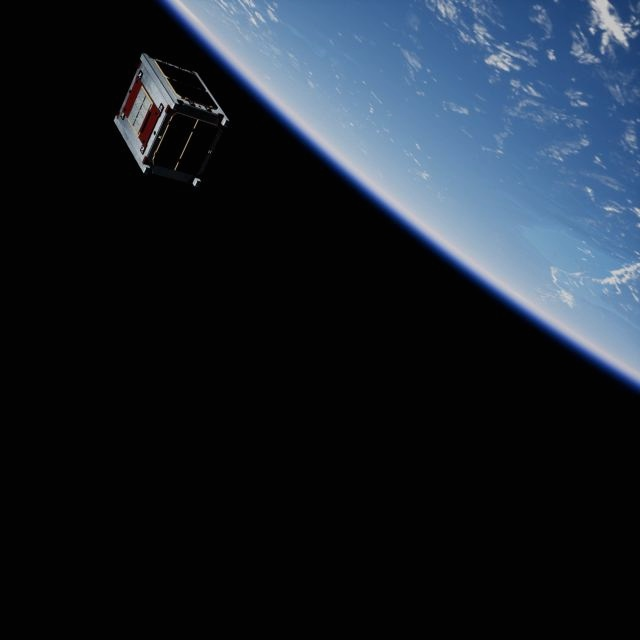medium_debris: (112, 53, 235, 194)
